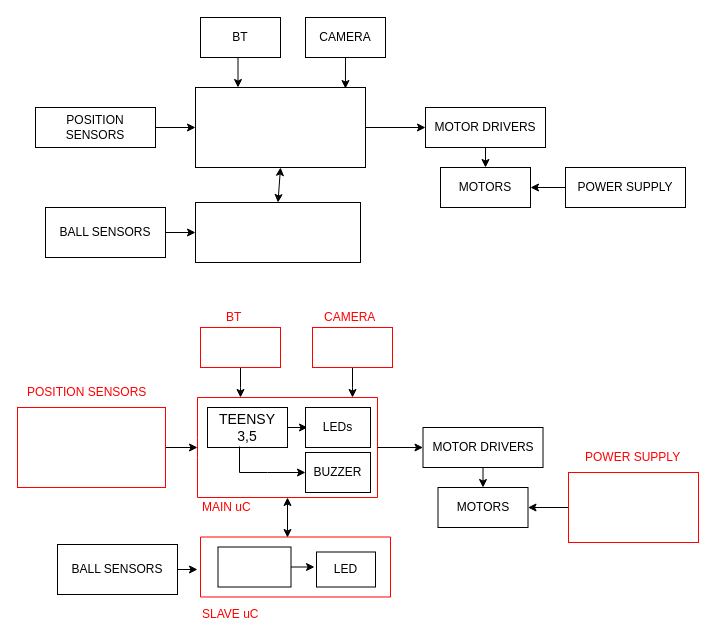
This 716x642 diagram has some shape labels left out. The centre of each missing label's shape, as x and y in pixels:
"ARDUINO PRO MINI" belongs at (x=254, y=566).
"BATTERY IC1 IC2 IC3" belongs at (x=633, y=507).
"LINE SENSORS SRF02 BNO055" belongs at (x=91, y=447).
"MAIN MICROCONTROLLER" belongs at (x=280, y=127).
"OPENMV M7" belongs at (x=352, y=347).
"RN42" belongs at (x=240, y=347).
"SLAVE MICROCONTROLLER" belongs at (x=277, y=232).
